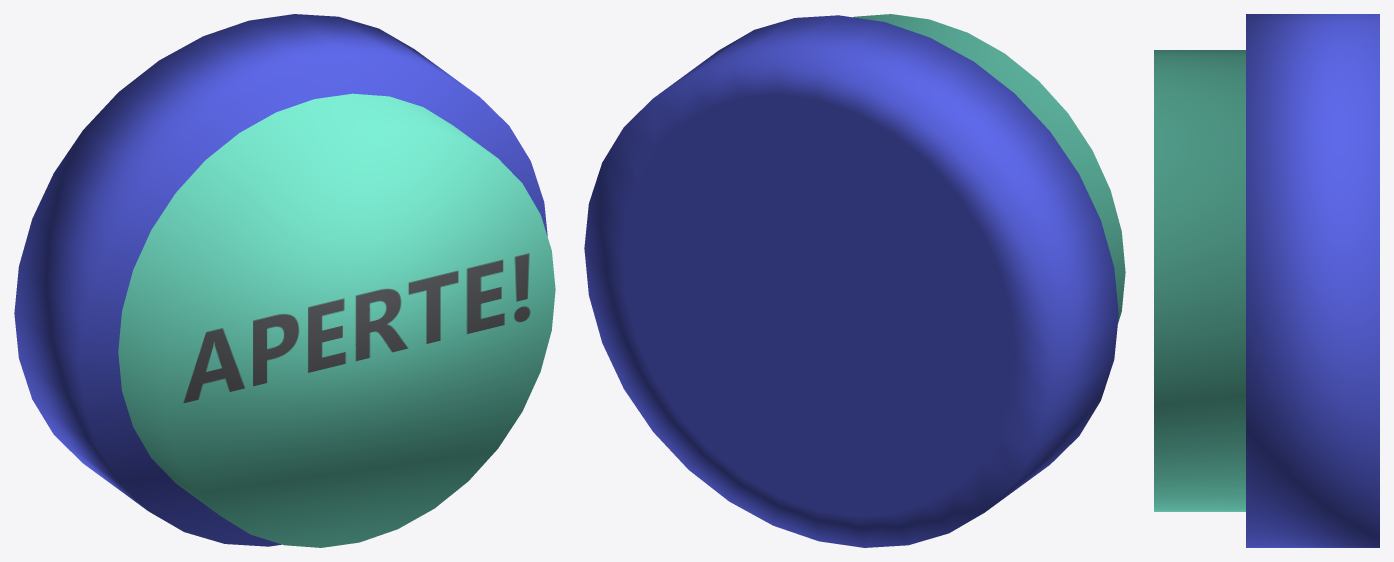
Rendered from Botao_Azul.glb.
3 views of the same model, side by side, from view 1: azimuth 30°, elevation 25°; view 2: azimuth 150°, elevation 25°; view 3: azimuth 270°, elevation 25° (orthographic). The views are drawn at different scales.
Parts seen in each view (by area): view 1: Cylinder.001; view 2: Cylinder.001; view 3: Cylinder.001.
Part boxes in pixels (left/top/right/bottom): Cylinder.001: left=14, top=14, right=555, bottom=547; Cylinder.001: left=584, top=14, right=1125, bottom=547; Cylinder.001: left=1154, top=14, right=1379, bottom=547.
Bounding box in the file's own units: 1.37 × 1.32 × 0.5605.
2 materials, 1 textured.
